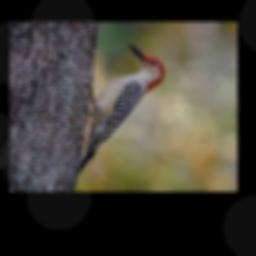Woodpecker: (77, 43, 165, 174)
